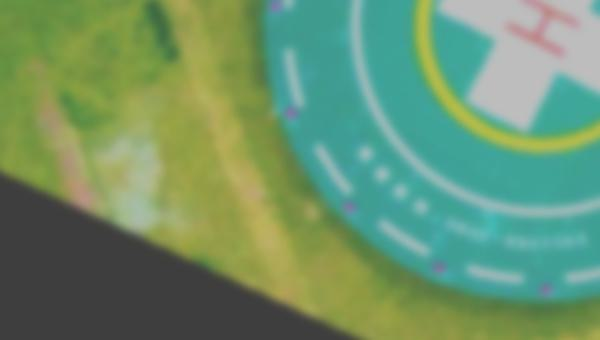Apron: (409, 3, 600, 173)
